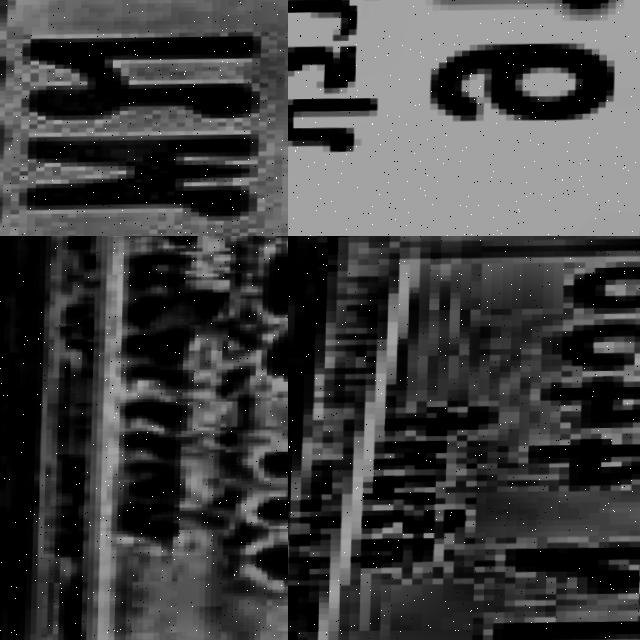license-plate: (288, 236, 640, 640), (0, 236, 288, 640), (288, 0, 640, 236), (0, 0, 288, 236)
